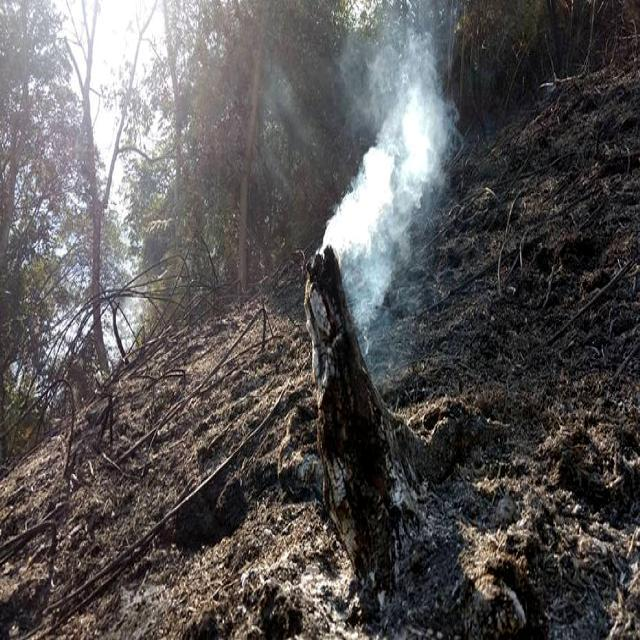Smoke: (322, 21, 477, 312)
